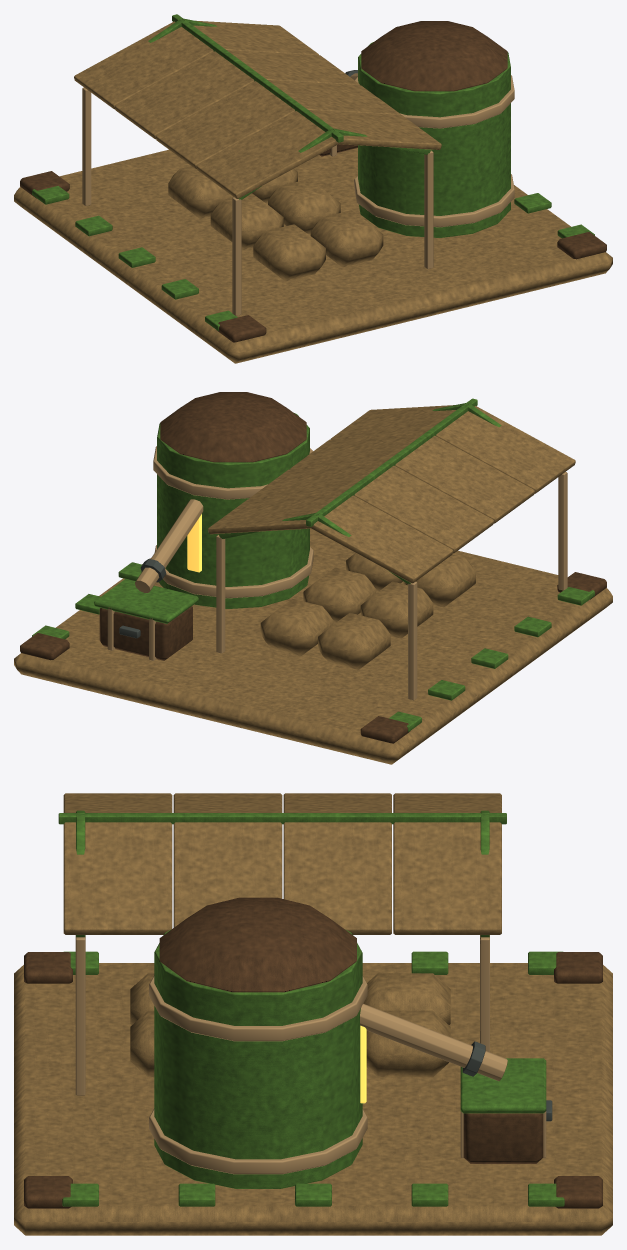
The model's file is vael_entrepot_d_epice.gltf.
3 views of the same model, one above another, from view 1: azimuth 30°, elevation 25°; view 2: azimuth 150°, elevation 25°; view 3: azimuth 270°, elevation 25° (orthographic). The views are drawn at different scales.
Parts seen in each view (by area): view 1: Root.007_Geometry; view 2: Root.007_Geometry; view 3: Root.007_Geometry.
Boxes of the visible parts, x1,y1,x2,y2 form: Root.007_Geometry: (14, 14, 612, 363); Root.007_Geometry: (14, 392, 612, 764); Root.007_Geometry: (14, 793, 612, 1235).
Size of the model in its own units: 3.91 by 1.88 by 3.91.
6 materials, 3 textured.
